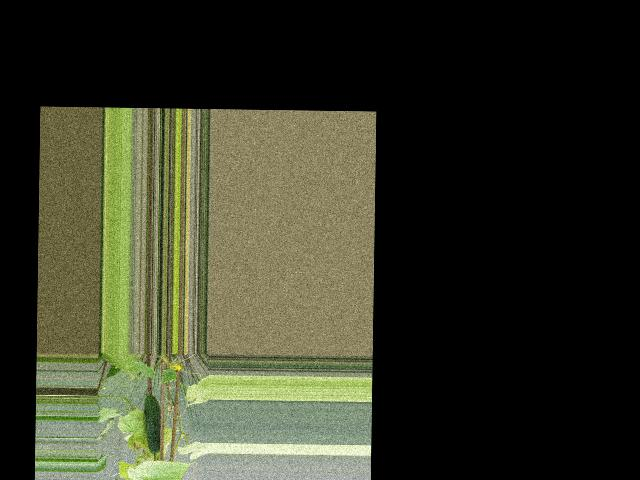cucumber: (143, 393, 161, 454)
